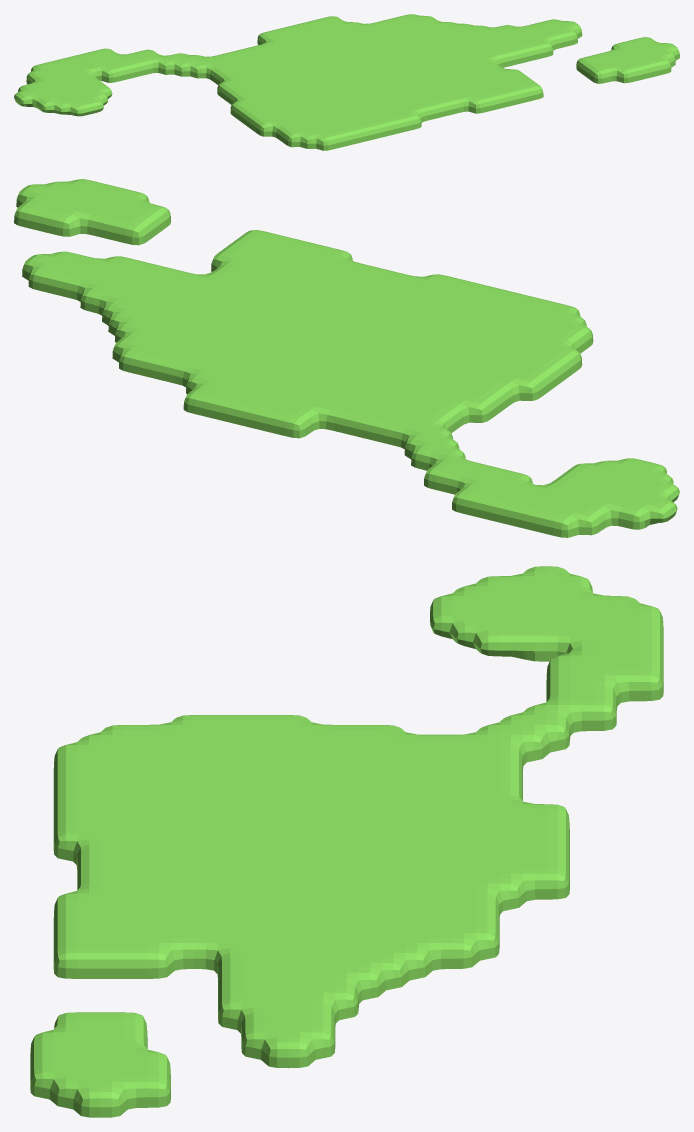
The model's file is terrain (2).fbx.
3 views of the same model, one above another, from view 1: azimuth 30°, elevation 25°; view 2: azimuth 150°, elevation 25°; view 3: azimuth 270°, elevation 25° (orthographic). The views are drawn at different scales.
Visible parts, largest first — view 1: Plane; view 2: Plane; view 3: Plane.
Part boxes in pixels (bbox=[...]): Plane: bbox=[14, 14, 679, 150]; Plane: bbox=[14, 179, 679, 537]; Plane: bbox=[30, 566, 663, 1117].
Size of the model in its own units: 5396 by 100 by 2700.
